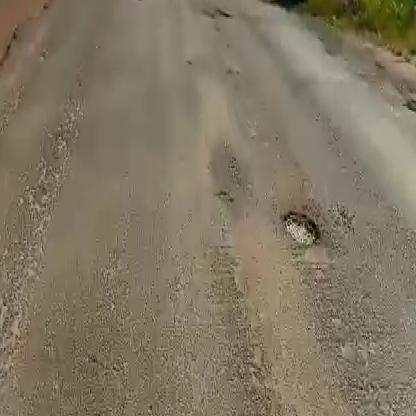pothole: (279, 207, 324, 247), (204, 8, 230, 20)
